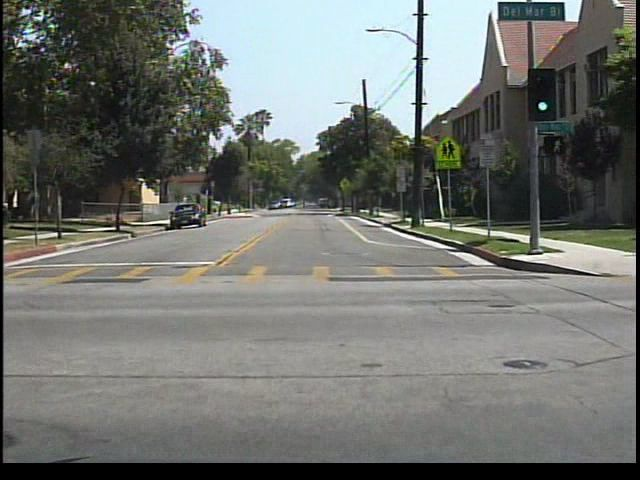person: (297, 194, 312, 212)
